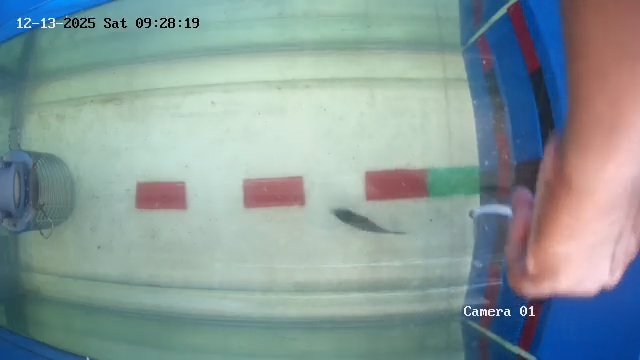fish: (338, 210, 419, 236)
